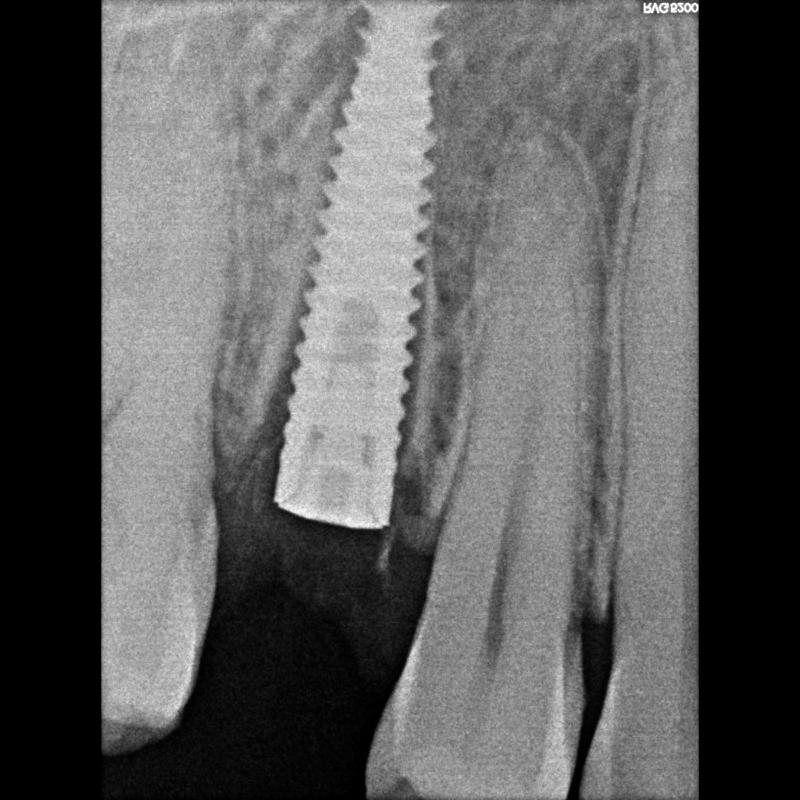MIS: (268, 0, 450, 532)
